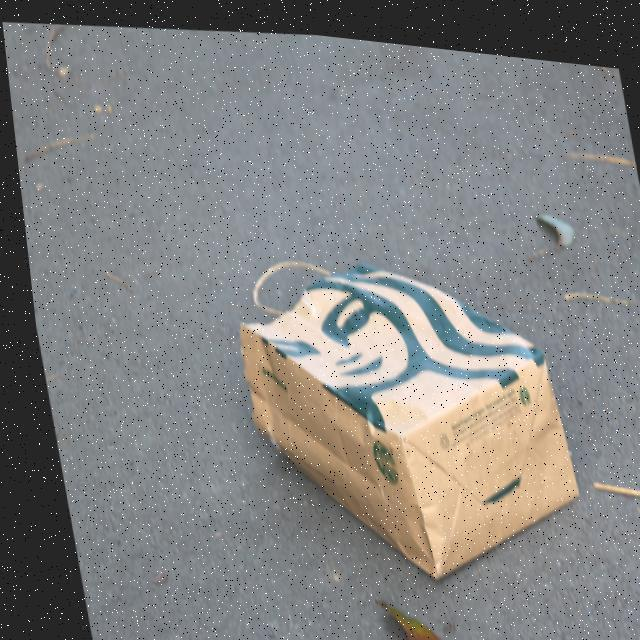Paper_Bag: (215, 230, 586, 598)
